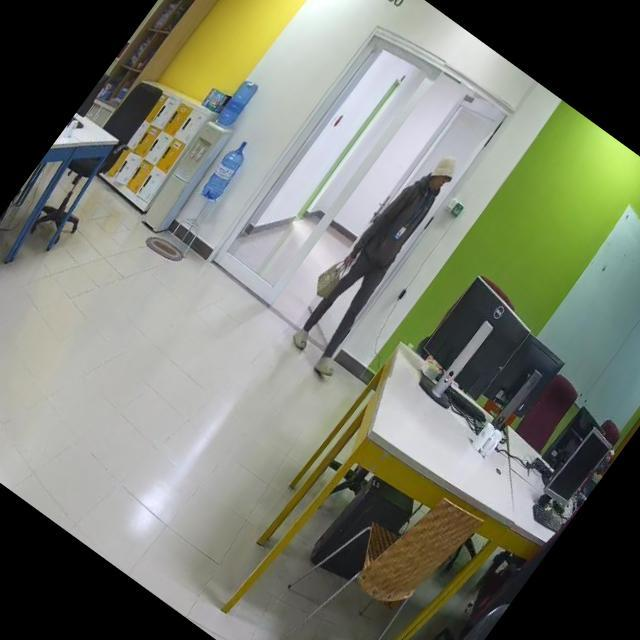person: (280, 145, 469, 378)
